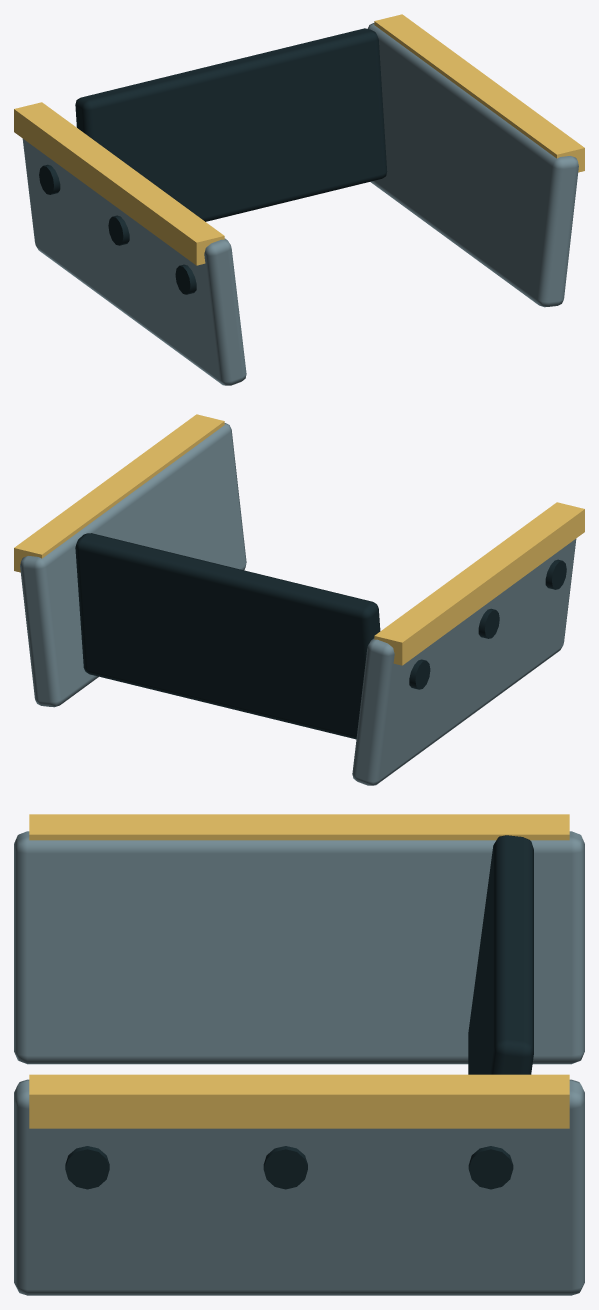
File: upgrade-armor_plating.glb
3 renders of one model, top to bottom at view 1: azimuth 30°, elevation 25°; view 2: azimuth 150°, elevation 25°; view 3: azimuth 270°, elevation 25°, orthographic. The views are drawn at different scales.
Parts seen in each view (by area): view 1: upgrade-armor_plating; view 2: upgrade-armor_plating; view 3: upgrade-armor_plating.
Boxes of the visible parts, left/top/right/bottom form: upgrade-armor_plating: left=14, top=14, right=584, bottom=385; upgrade-armor_plating: left=14, top=414, right=584, bottom=785; upgrade-armor_plating: left=14, top=814, right=584, bottom=1295.
Bounding box in the file's own units: 1.94 × 0.771 × 1.67.
